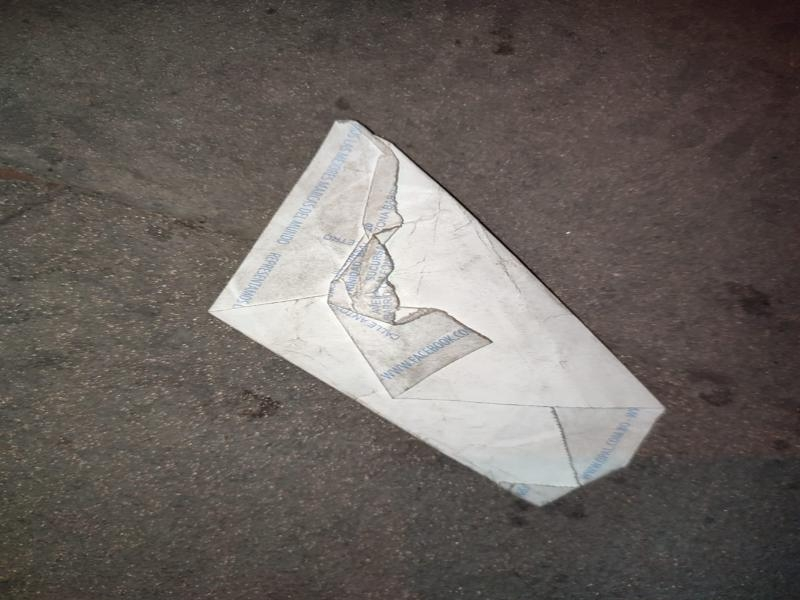papel: (209, 120, 662, 508)
